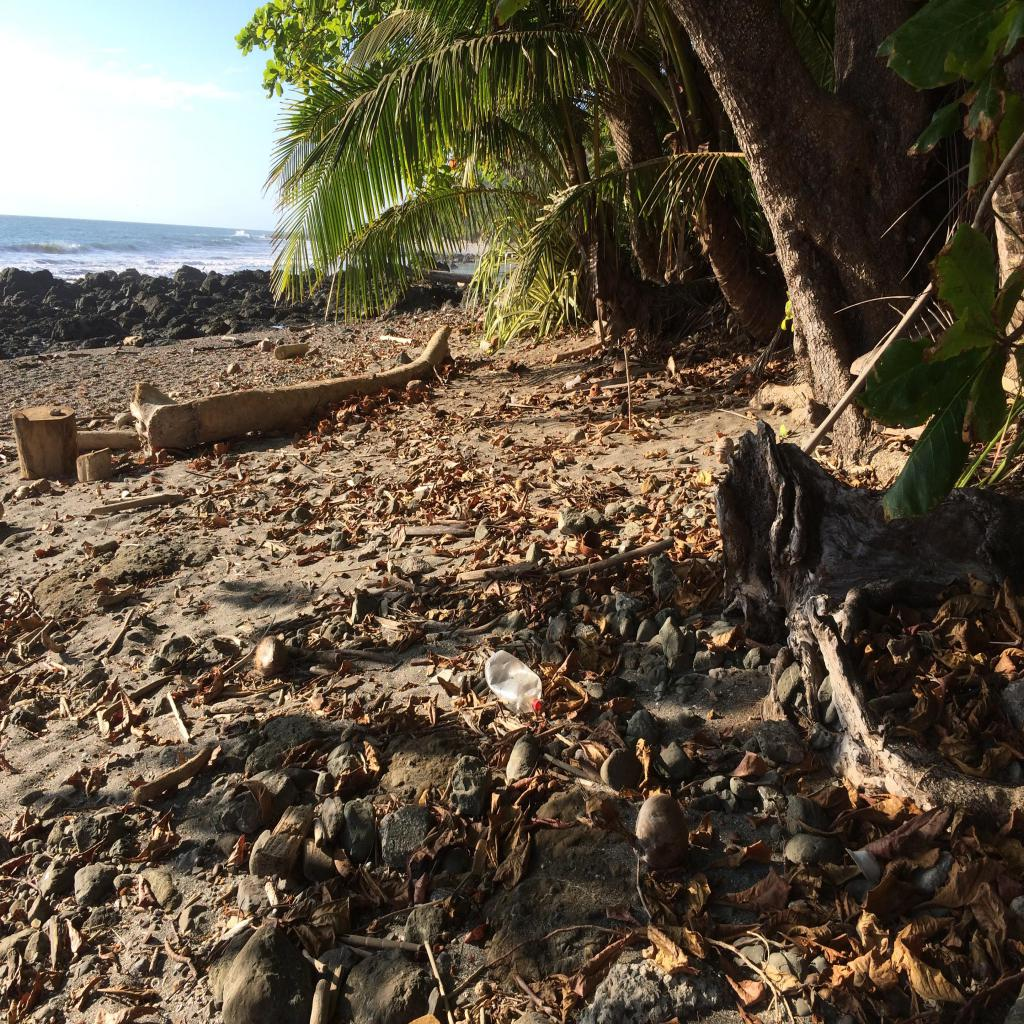Clear plastic bottle: (485, 650, 542, 713)
Plastic bottle cap: (532, 698, 542, 710)
